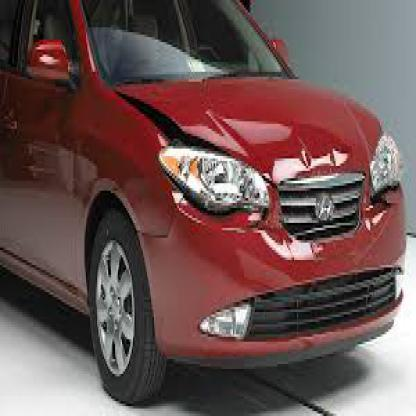dent: (260, 120, 349, 182)
